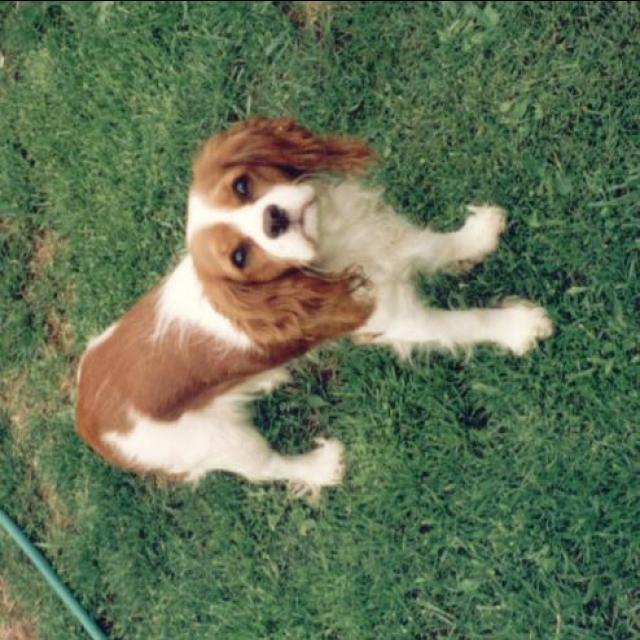blenheim_spaniel: (75, 114, 561, 502)
